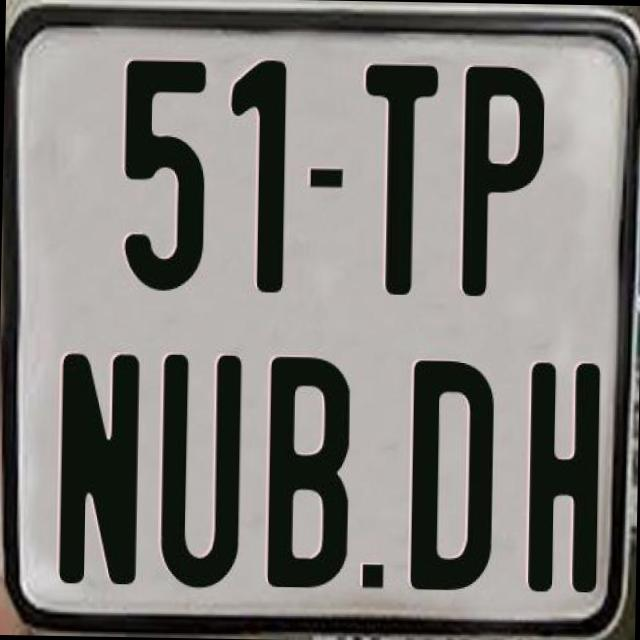1: (223, 60, 286, 292)
5: (120, 59, 210, 299)
B: (266, 352, 357, 590)
D: (408, 357, 494, 595)
H: (523, 362, 603, 600)
N: (57, 351, 141, 585)
P: (460, 62, 548, 294)
T: (362, 60, 438, 298)
U: (155, 351, 241, 584)
